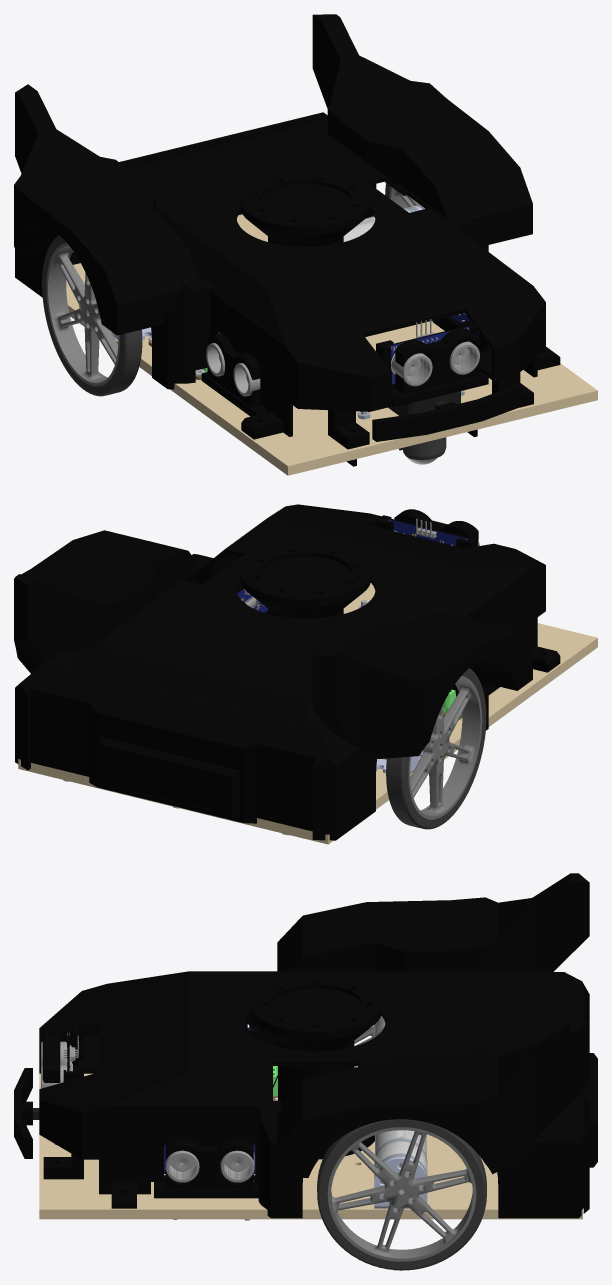
The model's file is ECHO_Roboter.glb.
3 views of the same model, one above another, from view 1: azimuth 30°, elevation 25°; view 2: azimuth 150°, elevation 25°; view 3: azimuth 270°, elevation 25° (orthographic).
Visible parts, largest first — view 1: HAUBE_V7_95, GRUNDPLATTE_0, PODEST_V2_46, POLOLU-WHEEL-80X10MM-BLACK_89, TASTERAUFSATZ_94, POLOLU-WHEEL-80X10MM-BLACK_90, ECHOR_38, ECHO_HALTERUNG_13, ECHOR_22, SWITCH_1115_2101_11, PRT0005_125, ECHO-LUR-HALTERUNG_17; view 2: HAUBE_V7_95, PODEST_V2_46, GRUNDPLATTE_0, POLOLU-WHEEL-80X10MM-BLACK_89, POLOLU-WHEEL-80X10MM-BLACK_90, ECHOR_39; view 3: HAUBE_V7_95, GRUNDPLATTE_0, PODEST_V2_46, POLOLU-WHEEL-80X10MM-BLACK_91, POLOLU-WHEEL-80X10MM-BLACK_92, ECHOR_30, TASTERAUFSATZ_94, ECHO-HALTERUNGL_16, JGA25-370_-_JGA25-370_75, POLOLU-25D-MM-METAL-GEARMOTOR-B_74, ECHOR_38, ECHO_HALTERUNG_13.
Boxes of the visible parts, box(x1,y1,x2,y2) form: HAUBE_V7_95: box(14, 14, 560, 449); GRUNDPLATTE_0: box(66, 214, 597, 475); PODEST_V2_46: box(240, 172, 370, 246); POLOLU-WHEEL-80X10MM-BLACK_89: box(46, 242, 119, 386); TASTERAUFSATZ_94: box(372, 384, 522, 441); POLOLU-WHEEL-80X10MM-BLACK_90: box(42, 235, 142, 396); ECHOR_38: box(391, 319, 479, 386); ECHO_HALTERUNG_13: box(376, 320, 488, 407); ECHOR_22: box(206, 343, 260, 396); SWITCH_1115_2101_11: box(388, 391, 460, 415); PRT0005_125: box(399, 437, 446, 460); ECHO-LUR-HALTERUNG_17: box(201, 332, 266, 416); HAUBE_V7_95: box(14, 504, 560, 840); PODEST_V2_46: box(240, 544, 370, 618); GRUNDPLATTE_0: box(18, 583, 597, 844); POLOLU-WHEEL-80X10MM-BLACK_89: box(408, 676, 482, 819); POLOLU-WHEEL-80X10MM-BLACK_90: box(386, 668, 486, 829); ECHOR_39: box(386, 519, 468, 546); HAUBE_V7_95: box(39, 873, 597, 1218); GRUNDPLATTE_0: box(39, 1073, 582, 1219); PODEST_V2_46: box(250, 976, 381, 1159); POLOLU-WHEEL-80X10MM-BLACK_91: box(327, 1127, 476, 1261); POLOLU-WHEEL-80X10MM-BLACK_92: box(317, 1119, 486, 1270); ECHOR_30: box(165, 1150, 254, 1182); TASTERAUFSATZ_94: box(14, 1068, 32, 1158); ECHO-HALTERUNGL_16: box(154, 1172, 258, 1198); JGA25-370_-_JGA25-370_75: box(374, 1130, 427, 1193); POLOLU-25D-MM-METAL-GEARMOTOR-B_74: box(374, 1157, 427, 1208); ECHOR_38: box(41, 1035, 78, 1088); ECHO_HALTERUNG_13: box(63, 1027, 78, 1081).
Bounding box in the file's own units: 0.228 × 0.1199 × 0.275.
